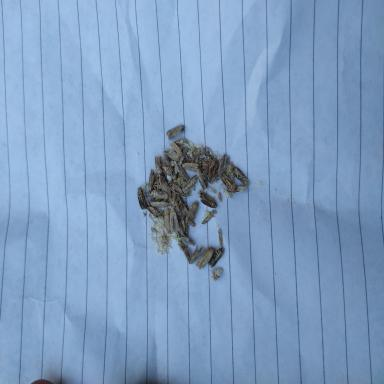pbw: (194, 190, 217, 209), (196, 246, 214, 270), (208, 246, 224, 268), (232, 166, 249, 186), (136, 186, 150, 210), (202, 157, 217, 179), (166, 124, 184, 142), (188, 244, 204, 264), (220, 173, 236, 193), (158, 176, 172, 198), (182, 175, 198, 194), (186, 200, 198, 225), (176, 162, 189, 183), (218, 154, 230, 176), (170, 206, 180, 232), (170, 182, 186, 198), (202, 209, 216, 225), (162, 154, 172, 176), (154, 155, 163, 179), (179, 146, 189, 166), (196, 170, 206, 190), (164, 209, 172, 234), (181, 233, 195, 247), (148, 168, 156, 192), (180, 216, 189, 237), (163, 150, 180, 161), (150, 190, 168, 200), (171, 142, 183, 157), (182, 162, 198, 172), (146, 206, 159, 218), (172, 194, 180, 212), (192, 148, 201, 164), (150, 201, 168, 208), (235, 184, 247, 193), (174, 137, 186, 146)
